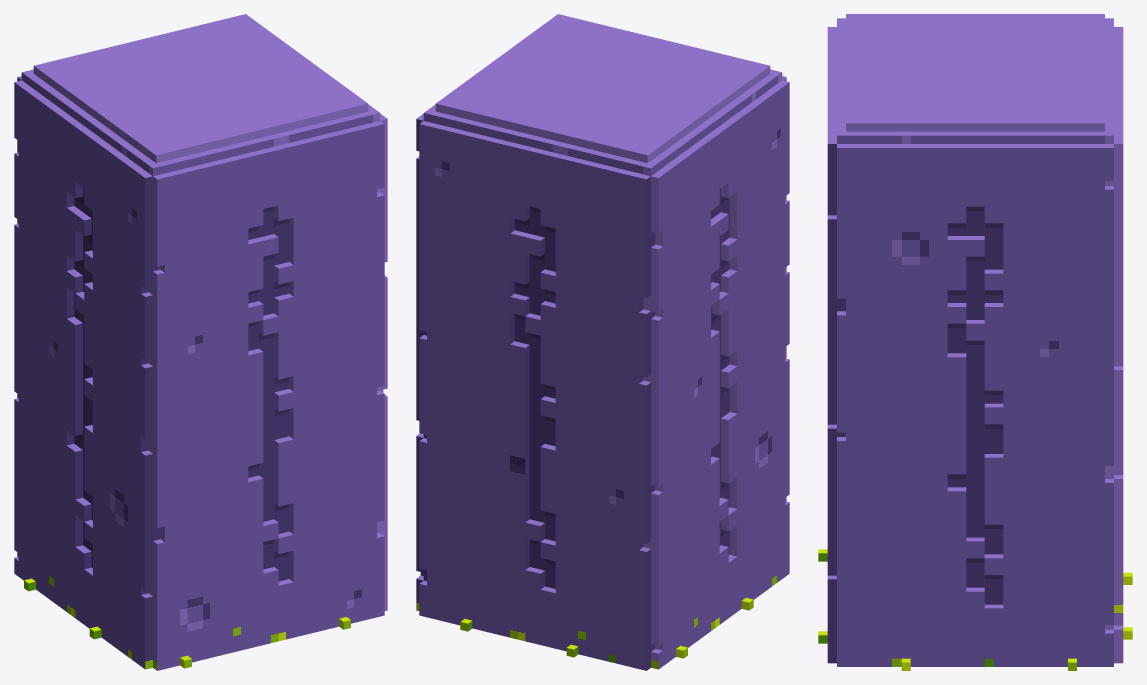
The model's file is code_monolith_waterfallao.fezao.glb.
The picture shows the model from 3 angles, left to right: view 1: azimuth 30°, elevation 25°; view 2: azimuth 150°, elevation 25°; view 3: azimuth 270°, elevation 25°; orthographic projection. The views are drawn at different scales.
Parts seen in each view (by area): view 1: CODE_MONOLITH_WATERFALLAO; view 2: CODE_MONOLITH_WATERFALLAO; view 3: CODE_MONOLITH_WATERFALLAO.
Part boxes in pixels (<box>): CODE_MONOLITH_WATERFALLAO: <box>14,14,387,670</box>; CODE_MONOLITH_WATERFALLAO: <box>416,14,789,670</box>; CODE_MONOLITH_WATERFALLAO: <box>818,14,1132,670</box>.
Size of the model in its own units: 2.12 by 4 by 2.12.
1 material, 1 textured.
